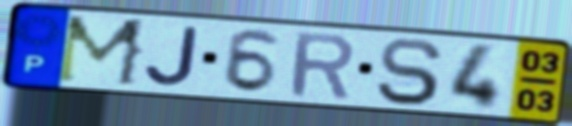4: (445, 41, 508, 113)
6: (219, 28, 282, 95)
J: (140, 24, 202, 89)
M: (53, 13, 151, 90)
R: (288, 30, 357, 102)
S: (372, 36, 447, 108)
